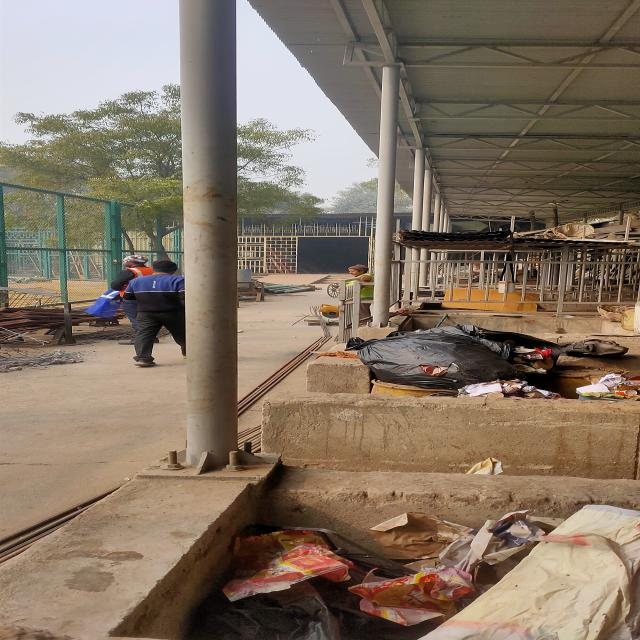unsafe: (126, 259, 187, 368)
